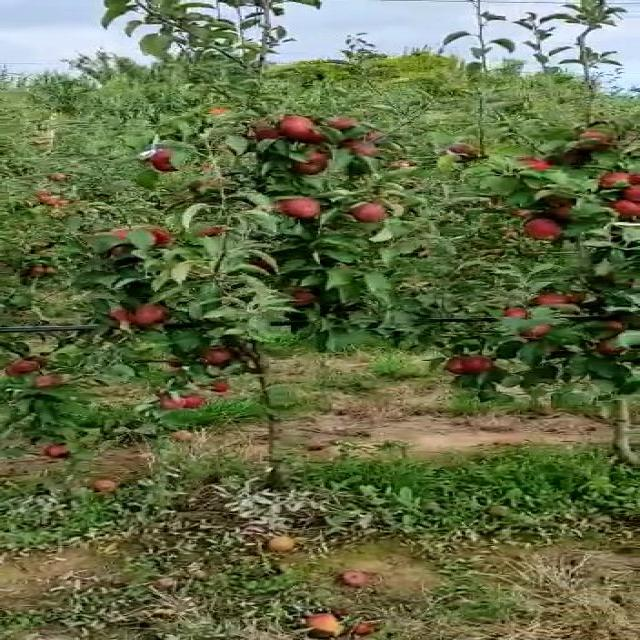100-_ripeness: (271, 115, 325, 140), (122, 302, 171, 325), (524, 217, 567, 243), (298, 150, 333, 177), (282, 194, 322, 217), (198, 346, 240, 367), (600, 171, 640, 191), (151, 149, 184, 173), (449, 355, 493, 372), (6, 358, 44, 377), (532, 292, 572, 310), (351, 200, 385, 220), (594, 336, 632, 353), (168, 393, 208, 408)
